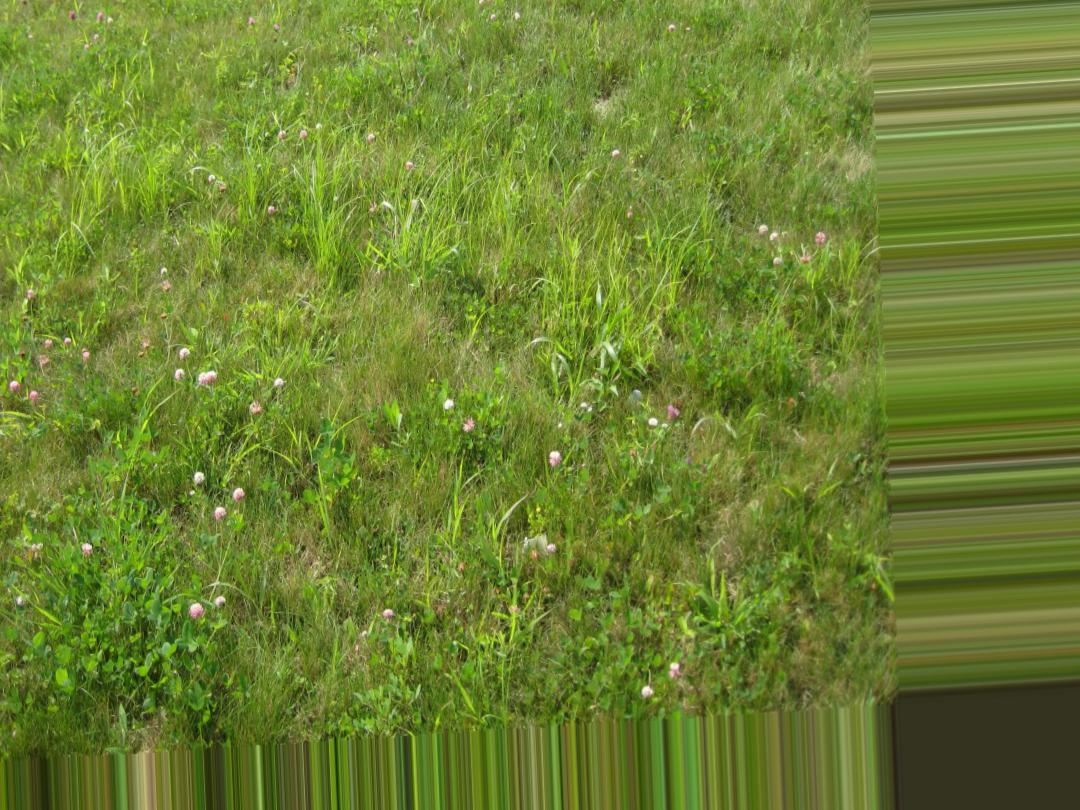patch: (310, 304, 430, 386), (161, 263, 229, 305)
